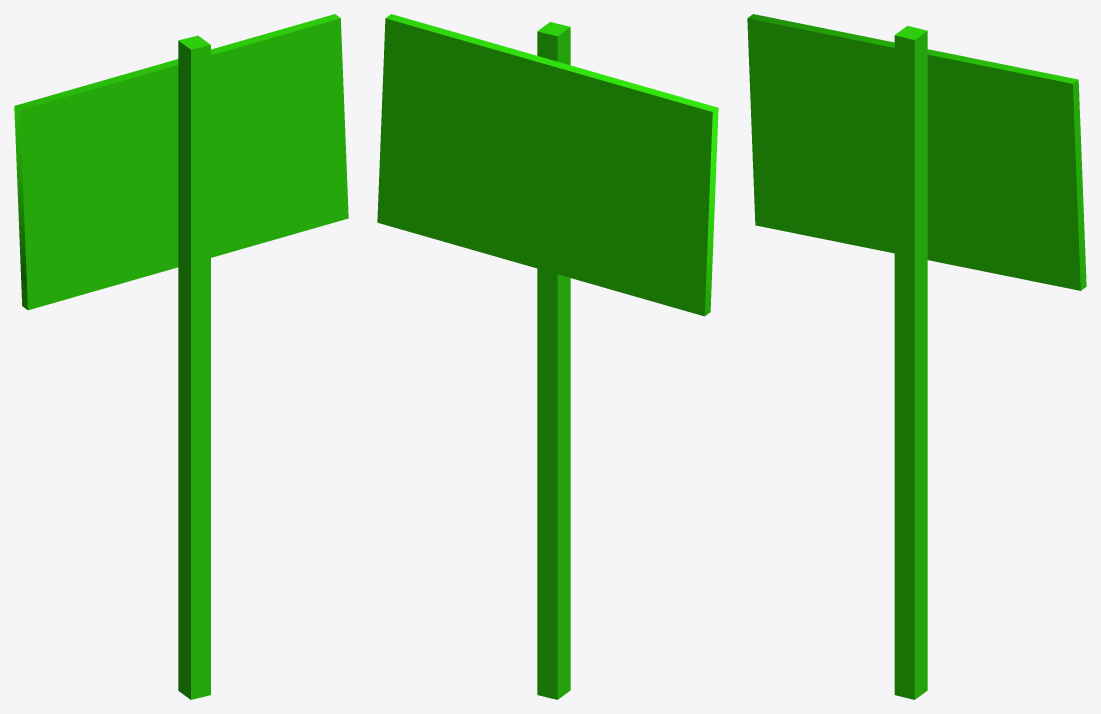
The model's file is Signboard_Wood_01.fbx.
The picture shows the model from 3 angles, left to right: view 1: azimuth 30°, elevation 25°; view 2: azimuth 150°, elevation 25°; view 3: azimuth 330°, elevation 25°; orthographic projection. The views are drawn at different scales.
Visible parts, largest first — view 1: Signboard_Wood_01; view 2: Signboard_Wood_01; view 3: Signboard_Wood_01.
Boxes of the visible parts, x1=… form: Signboard_Wood_01: x1=14, y1=14, x2=348, y2=699; Signboard_Wood_01: x1=377, y1=14, x2=718, y2=699; Signboard_Wood_01: x1=747, y1=14, x2=1086, y2=699.
Bounding box in the file's own units: 86.59 × 164 × 8.53.
